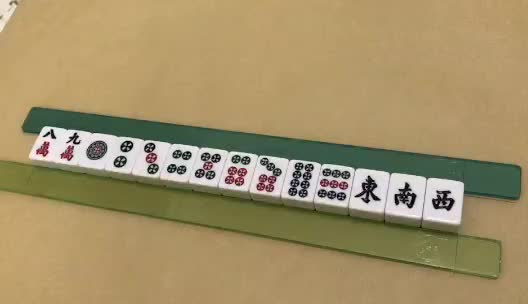1p: (86, 140, 108, 160)
1z: (355, 175, 380, 204)
2p: (114, 140, 135, 169)
2z: (394, 182, 417, 207)
3p: (144, 141, 159, 175)
3z: (432, 191, 454, 211)
4p: (167, 151, 190, 176)
5p: (194, 152, 221, 180)
6p: (225, 155, 250, 187)
7p: (258, 158, 282, 194)
8m: (35, 128, 56, 157)
8p: (290, 162, 314, 198)
9m: (61, 132, 81, 161)
9p: (318, 167, 351, 201)
